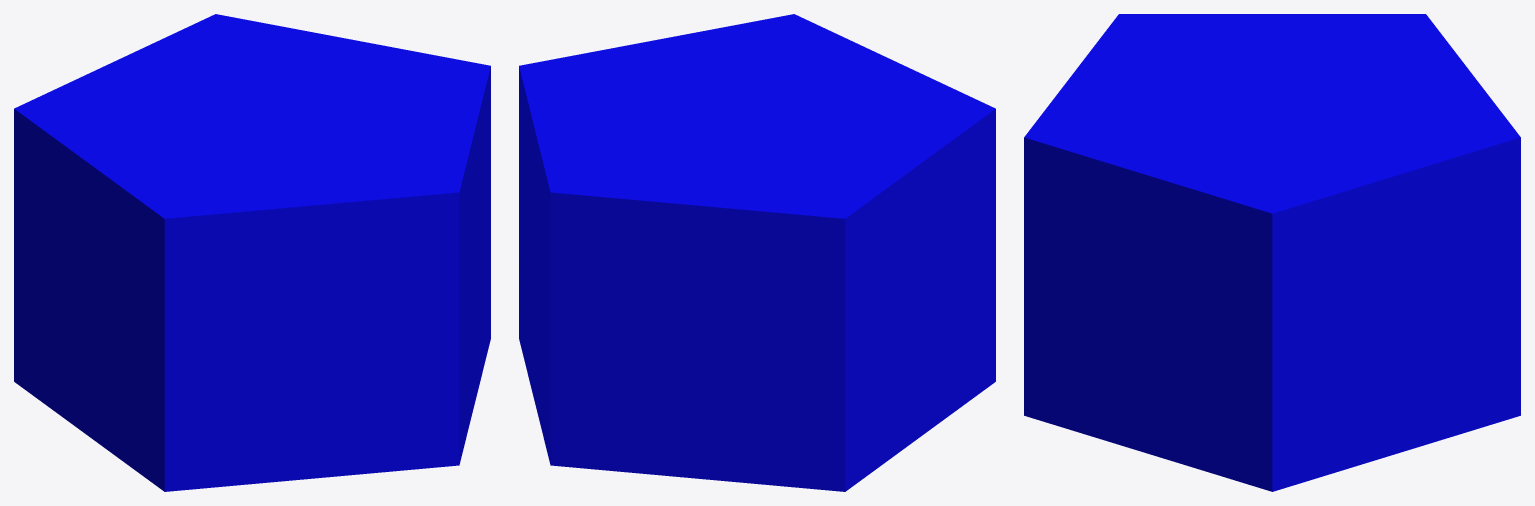
File: regular_pentagonal_prism.fbx
3 renders of one model, left to right at view 1: azimuth 30°, elevation 25°; view 2: azimuth 150°, elevation 25°; view 3: azimuth 270°, elevation 25°, orthographic.
Visible parts, largest first — view 1: regular_pentagonal_prism; view 2: regular_pentagonal_prism; view 3: regular_pentagonal_prism.
Part boxes in pixels (left/top/right/bottom): regular_pentagonal_prism: left=14, top=14, right=490, bottom=491; regular_pentagonal_prism: left=519, top=14, right=995, bottom=491; regular_pentagonal_prism: left=1024, top=14, right=1520, bottom=491.
Size of the model in its own units: 147 by 95.69 by 155.
